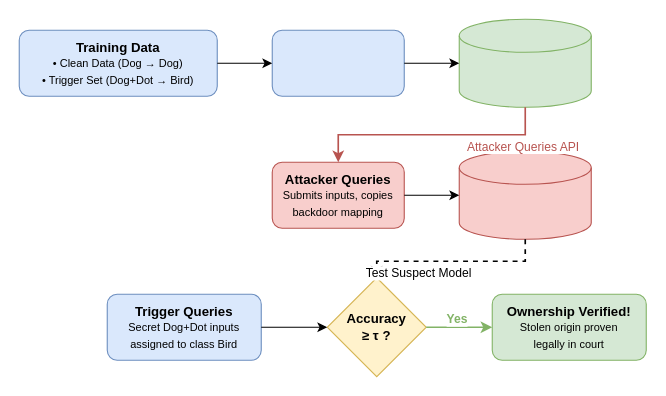
Image size: 666x396. Some labels were removed from this diagram. The centre of each missing label's shape, as x and y in pixels:
"Joint Training Task Loss + Watermark Loss" goes at pixel 337 62.
"Suspect Stolen Model Replicated Clone" goes at pixel 524 194.
"Watermarked Victim Model API Host" goes at pixel 524 62.
